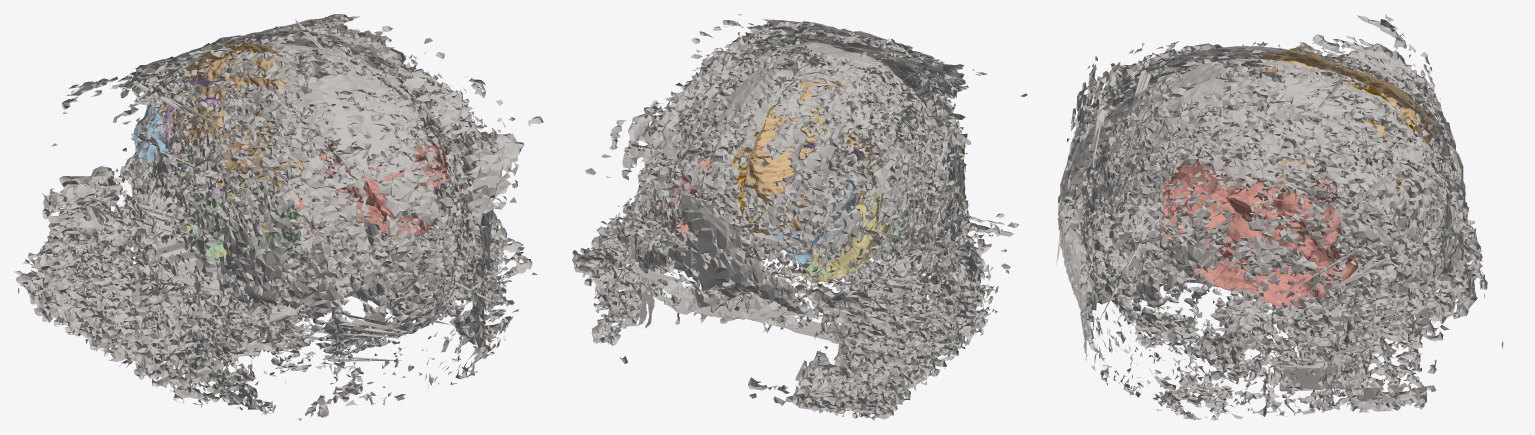
File: case_library_molecular.glb
3 renders of one model, left to right at view 1: azimuth 30°, elevation 25°; view 2: azimuth 150°, elevation 25°; view 3: azimuth 270°, elevation 25°, orthographic. The views are drawn at different scales.
Visible parts, largest first — view 1: Reference brain surface, Astro IDH-mut G4 — T2/FLAIR tumour body (sub-0061), GBM IDH-wt G4 — T2/FLAIR tumour body (sub-0007), Astro IDH-mut G2 — T2/FLAIR tumour body (sub-0237), Oligo 1p19q-codel G2 — T2/FLAIR tumour body (sub-0258), Astro IDH-wt G3 — T2/FLAIR tumour body (sub-0263); view 2: Reference brain surface, Astro IDH-mut G4 — T2/FLAIR tumour body (sub-0061), Astro IDH-mut G3 — T2/FLAIR tumour body (sub-0262), Oligo 1p19q-codel G2 — T2/FLAIR tumour body (sub-0258), GBM IDH-wt G4 — T2/FLAIR tumour body (sub-0007), Astro IDH-mut G2 — T2/FLAIR tumour body (sub-0237); view 3: Reference brain surface, GBM IDH-wt G4 — T2/FLAIR tumour body (sub-0007), Astro IDH-mut G4 — T2/FLAIR tumour body (sub-0061).
Part boxes in pixels (x1,y1,x2,y2): Reference brain surface: [14, 14, 543, 420]; Astro IDH-mut G4 — T2/FLAIR tumour body (sub-0061): [161, 42, 369, 233]; GBM IDH-wt G4 — T2/FLAIR tumour body (sub-0007): [291, 126, 454, 245]; Astro IDH-mut G2 — T2/FLAIR tumour body (sub-0237): [189, 176, 300, 269]; Oligo 1p19q-codel G2 — T2/FLAIR tumour body (sub-0258): [134, 79, 202, 174]; Astro IDH-wt G3 — T2/FLAIR tumour body (sub-0263): [162, 74, 227, 199]; Reference brain surface: [572, 14, 1027, 420]; Astro IDH-mut G4 — T2/FLAIR tumour body (sub-0061): [712, 71, 875, 240]; Astro IDH-mut G3 — T2/FLAIR tumour body (sub-0262): [803, 180, 890, 281]; Oligo 1p19q-codel G2 — T2/FLAIR tumour body (sub-0258): [762, 164, 856, 264]; GBM IDH-wt G4 — T2/FLAIR tumour body (sub-0007): [664, 109, 752, 239]; Astro IDH-mut G2 — T2/FLAIR tumour body (sub-0237): [807, 161, 909, 277]; Reference brain surface: [1056, 14, 1503, 420]; GBM IDH-wt G4 — T2/FLAIR tumour body (sub-0007): [1161, 141, 1382, 307]; Astro IDH-mut G4 — T2/FLAIR tumour body (sub-0061): [1220, 46, 1436, 208].
Size of the model in its own units: 204 by 152 by 229.
